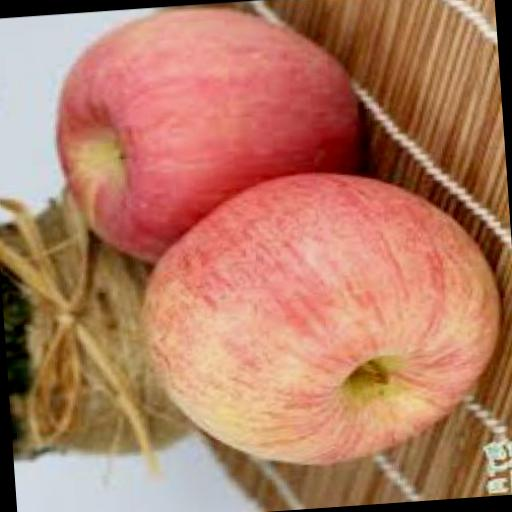biodegradable: (126, 158, 512, 472), (45, 0, 376, 267)
